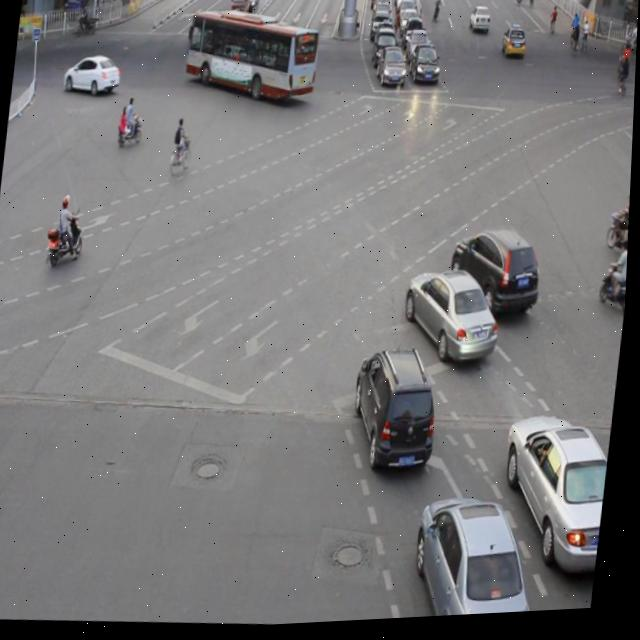car: (494, 412, 617, 587), (414, 491, 549, 622), (348, 344, 446, 477), (401, 268, 508, 371), (447, 226, 548, 321)
van: (182, 8, 323, 107)
